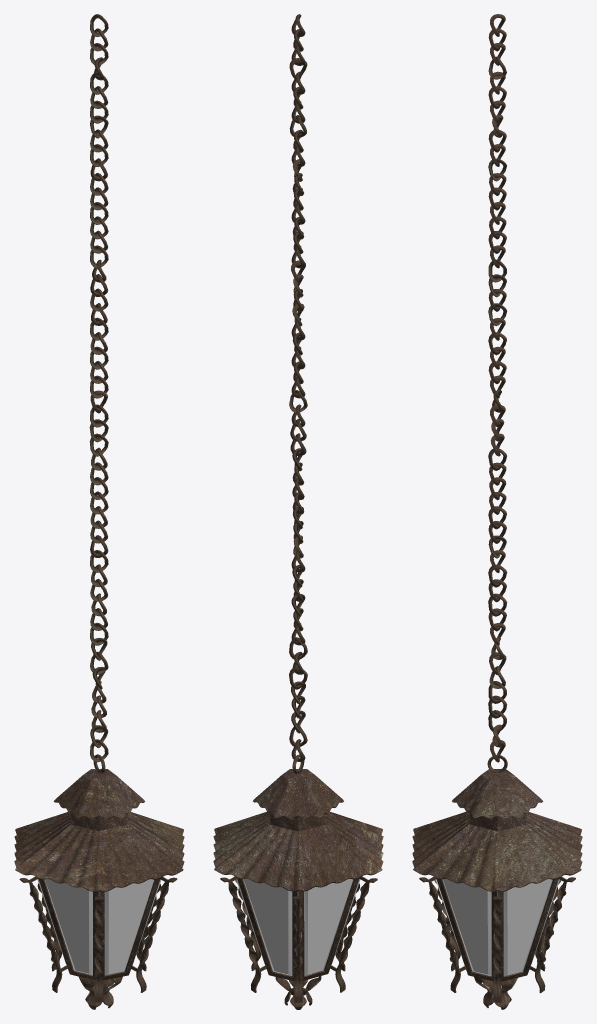
File: lamp1.obj
3 renders of one model, left to right at view 1: azimuth 30°, elevation 25°; view 2: azimuth 150°, elevation 25°; view 3: azimuth 270°, elevation 25°, orthographic.
Bounding box in the file's own units: 0.4567 × 2.58 × 0.4008.
Materials: 4 (1 with a texture image).
